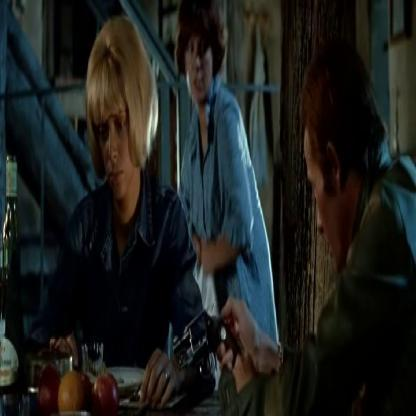gun: (172, 299, 263, 401)
